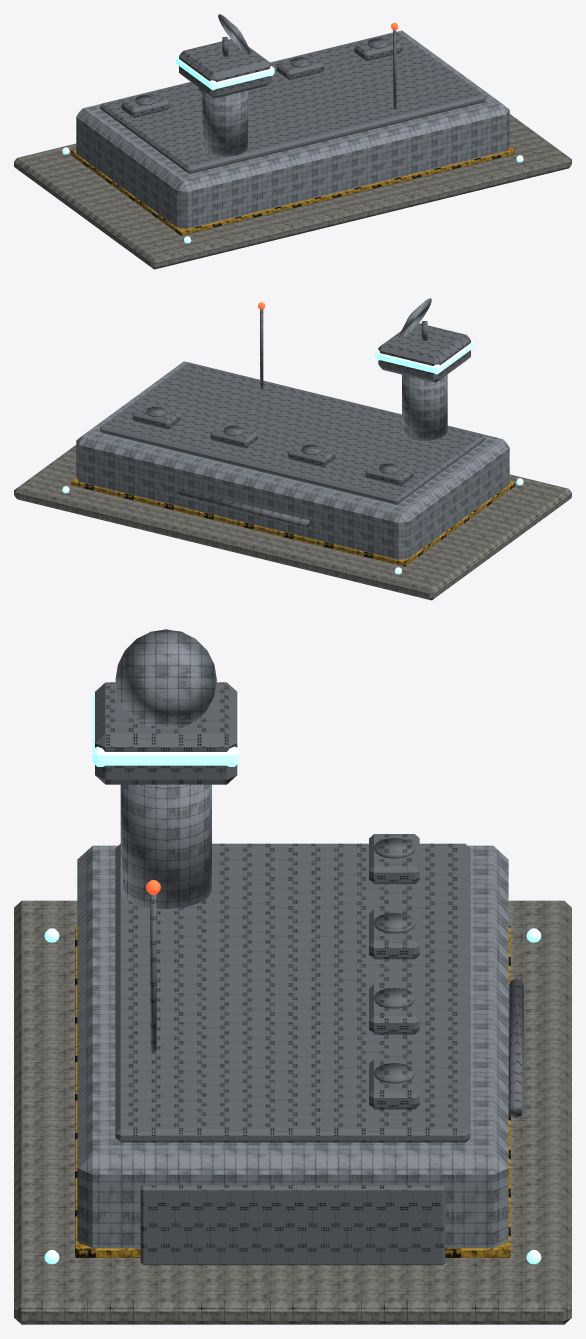
3 renders of one model, top to bottom at view 1: azimuth 30°, elevation 25°; view 2: azimuth 150°, elevation 25°; view 3: azimuth 270°, elevation 25°, orthographic. The views are drawn at different scales.
Parts seen in each view (by area): view 1: main, roof, plinth, tower_cab, tower_shaft, stripe, tower_glass, vent-110, vent30, vent100, dish; view 2: main, roof, plinth, tower_cab, tower_shaft, stripe, tower_glass, pipe0, vent100, vent-40, vent-110, vent30 (+1 smaller); view 3: roof, plinth, main, hangar_door, tower_shaft, tower_cab, dish, stripe, tower_glass, vent100, vent30, vent-40 (+4 smaller).
Boxes of the visible parts, left/top/right/bottom form: main: left=76, top=30, right=509, bottom=228; roof: left=100, top=31, right=485, bottom=173; plinth: left=14, top=114, right=571, bottom=269; tower_cab: left=179, top=39, right=271, bottom=98; tower_shaft: left=202, top=90, right=247, bottom=156; stripe: left=71, top=146, right=514, bottom=235; tower_glass: left=176, top=56, right=274, bottom=90; vent-110: left=121, top=93, right=169, bottom=117; vent30: left=276, top=55, right=324, bottom=80; vent100: left=354, top=36, right=402, bottom=61; dish: left=218, top=14, right=250, bottom=54; main: left=76, top=361, right=509, bottom=559; roof: left=100, top=362, right=485, bottom=504; plinth: left=14, top=445, right=571, bottom=600; tower_cab: left=378, top=323, right=470, bottom=382; tower_shaft: left=402, top=374, right=447, bottom=440; stripe: left=71, top=477, right=514, bottom=566; tower_glass: left=375, top=340, right=473, bottom=374; pipe0: left=207, top=496, right=310, bottom=527; vent100: left=132, top=405, right=180, bottom=429; vent-40: left=287, top=442, right=335, bottom=467; vent-110: left=365, top=462, right=413, bottom=486; vent30: left=210, top=424, right=257, bottom=448; roof: left=115, top=843, right=470, bottom=1142; plinth: left=14, top=900, right=571, bottom=1324; main: left=77, top=845, right=508, bottom=1248; hangar_door: left=140, top=1185, right=445, bottom=1265; tower_shaft: left=120, top=784, right=211, bottom=908; tower_cab: left=95, top=682, right=237, bottom=784; dish: left=115, top=629, right=216, bottom=726; stripe: left=75, top=926, right=510, bottom=1257; tower_glass: left=92, top=693, right=239, bottom=766; vent100: left=369, top=1059, right=419, bottom=1109; vent30: left=369, top=984, right=419, bottom=1034; vent-40: left=369, top=909, right=419, bottom=959.
Size of the model in its own units: 380 by 173 by 220.
6 materials, 4 textured.
